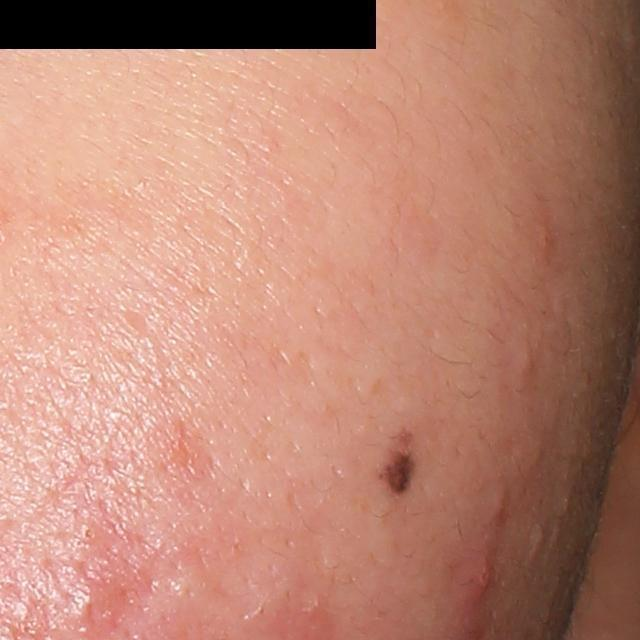comedo: (511, 346, 538, 378)
nevus: (379, 428, 415, 496)
papule: (451, 547, 502, 610), (66, 579, 122, 634)
